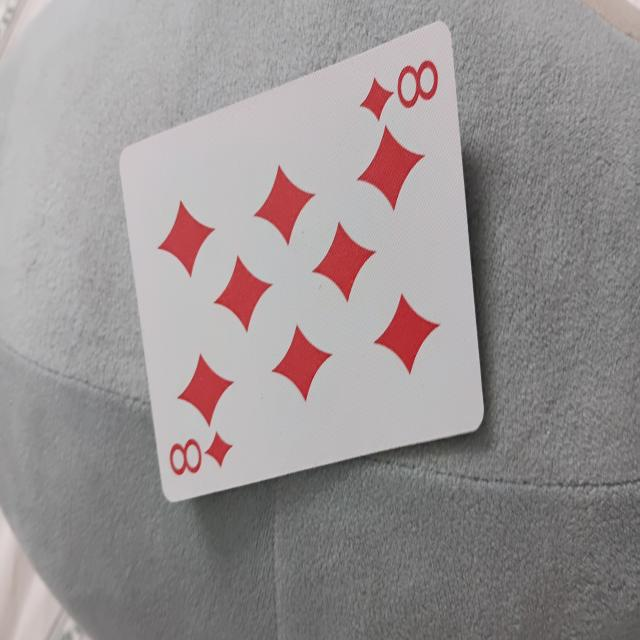8D: (118, 18, 480, 509)
